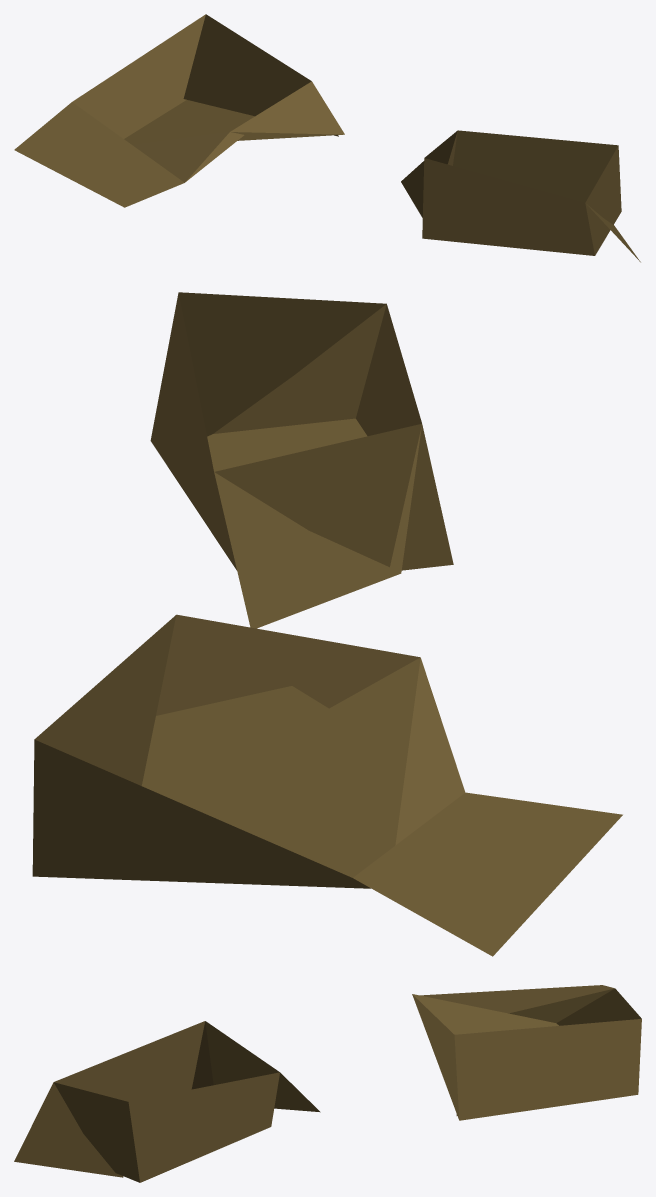
Rendered from cutii 2.fbx.
3 views of the same model, one above another, from view 1: azimuth 30°, elevation 25°; view 2: azimuth 150°, elevation 25°; view 3: azimuth 270°, elevation 25° (orthographic). The views are drawn at different scales.
Parts seen in each view (by area): view 1: Plane.009; view 2: Plane.009; view 3: Plane.009.
Part boxes in pixels (x1,y1,x2,y2): Plane.009: [14, 14, 640, 262]; Plane.009: [32, 292, 622, 956]; Plane.009: [14, 985, 641, 1182].
Size of the model in its own units: 141 by 26.16 by 185.
